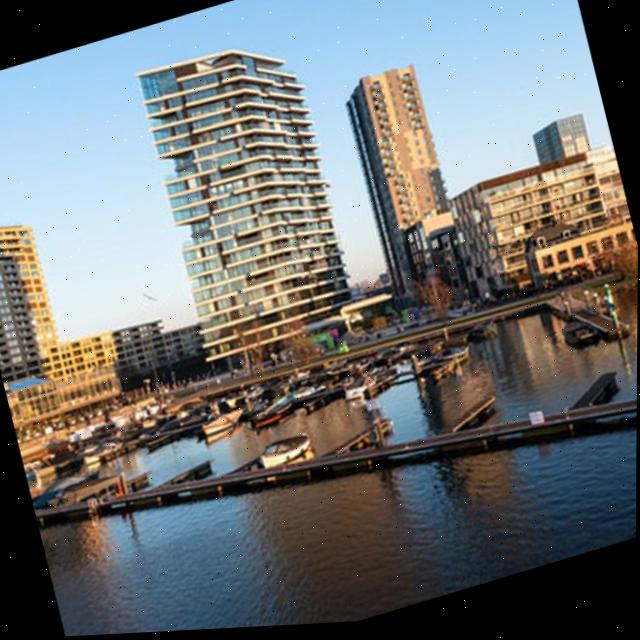building: (130, 21, 363, 385), (0, 164, 210, 436), (439, 133, 639, 313), (335, 53, 465, 303), (532, 110, 599, 173)
